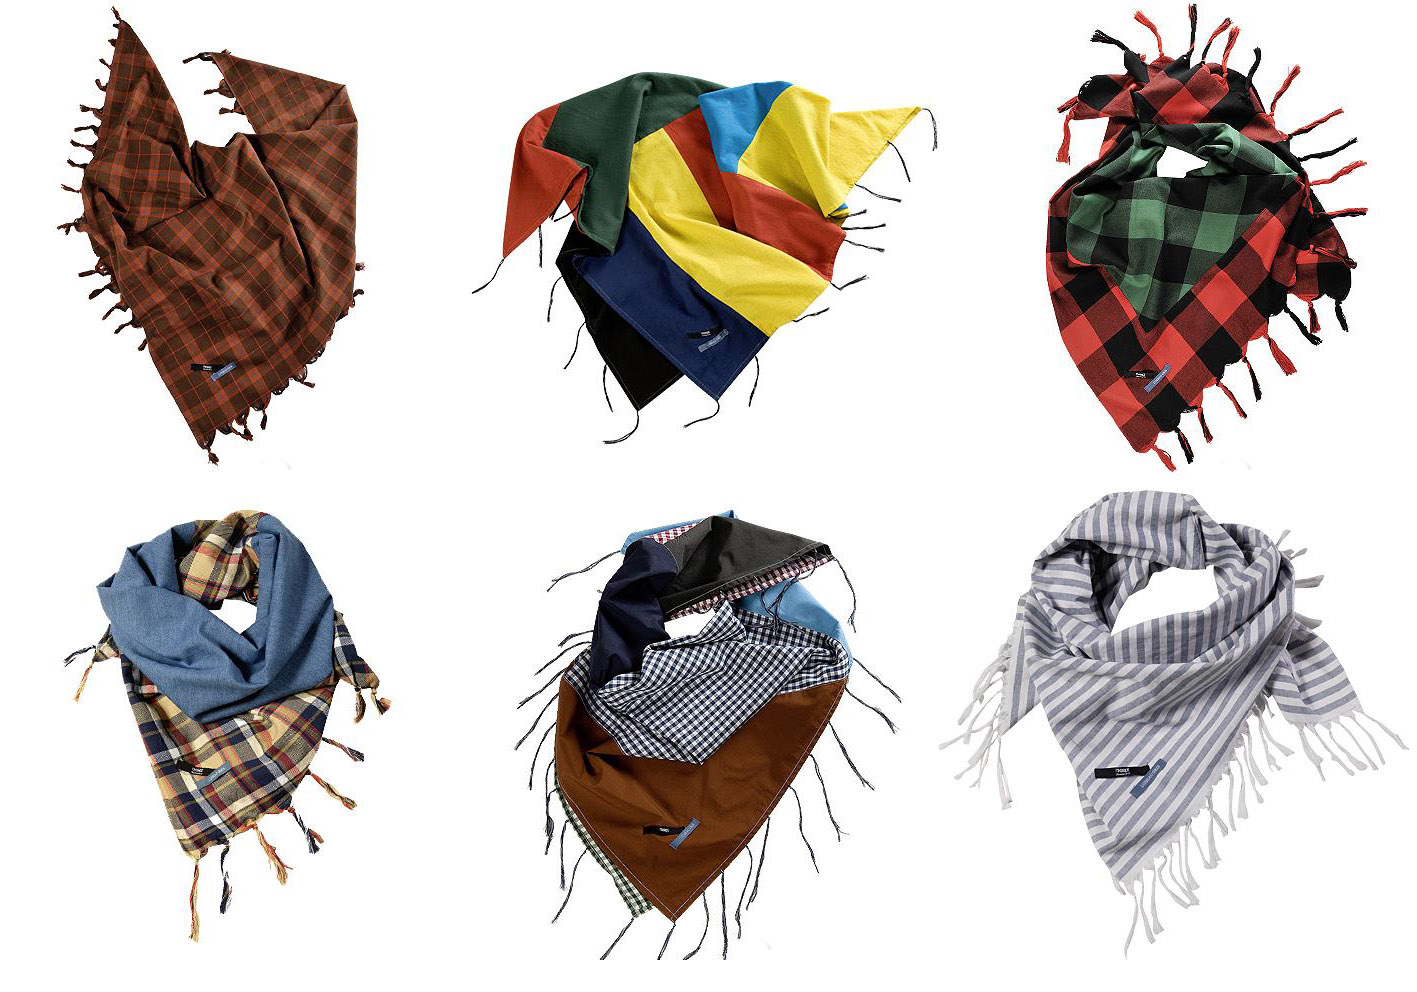flexible: (973, 481, 1408, 976), (513, 505, 916, 976), (999, 1, 1401, 472), (480, 60, 949, 443), (58, 500, 394, 958), (58, 10, 380, 452)
